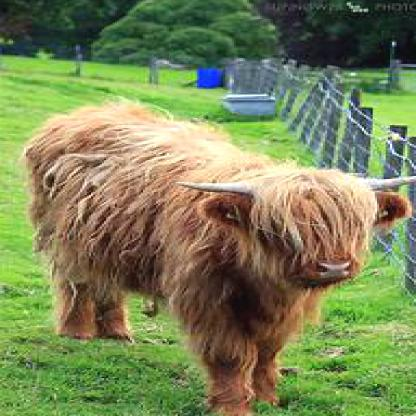cow: (26, 99, 414, 414)
